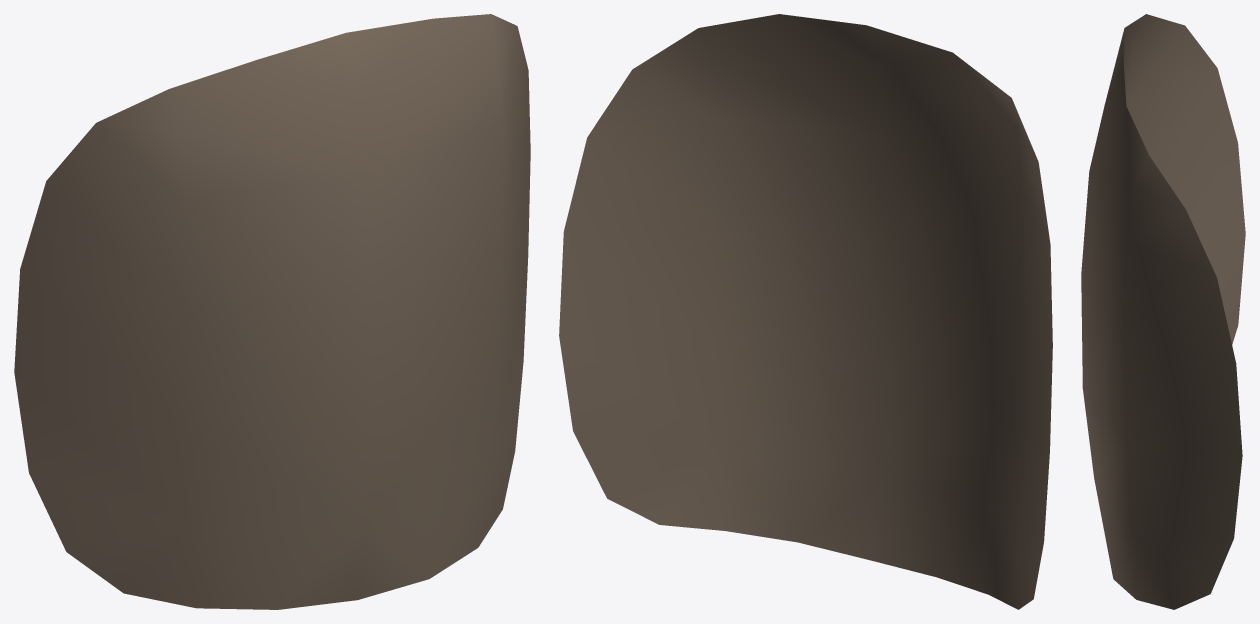
File: MD_nail_FootL.Middle.fbx
The picture shows the model from 3 angles, left to right: view 1: azimuth 30°, elevation 25°; view 2: azimuth 150°, elevation 25°; view 3: azimuth 270°, elevation 25°; orthographic projection. The views are drawn at different scales.
Parts seen in each view (by area): view 1: MD_nail_FootL.Middle; view 2: MD_nail_FootL.Middle; view 3: MD_nail_FootL.Middle.
Boxes of the visible parts, box(x1,y1,x2,y2) form: MD_nail_FootL.Middle: box(14, 14, 530, 609); MD_nail_FootL.Middle: box(559, 14, 1052, 609); MD_nail_FootL.Middle: box(1081, 14, 1245, 609).
Size of the model in its own units: 0.7111 by 0.7466 by 0.2285.
